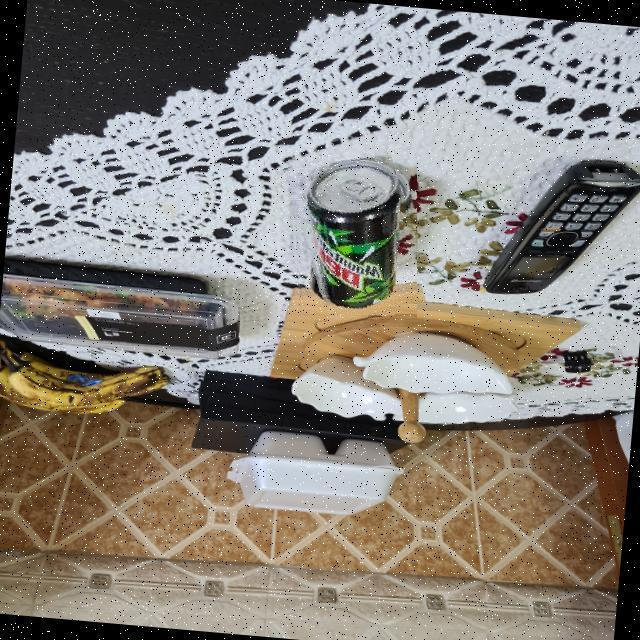recyclable: (291, 149, 417, 323)
